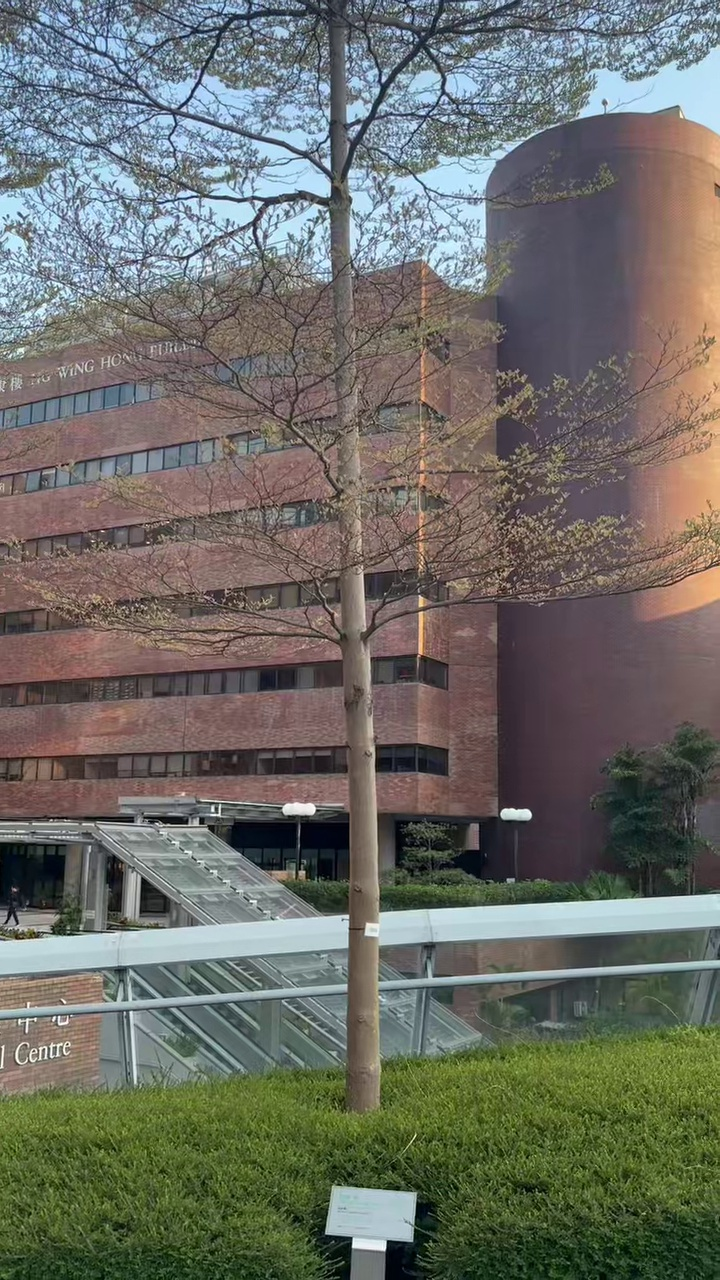Terminalia mantaly: (0, 0, 719, 1110)
